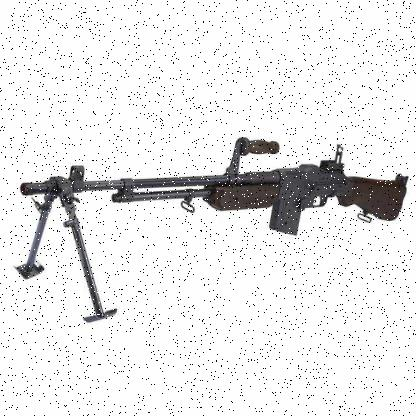rifle: (19, 106, 415, 243)
